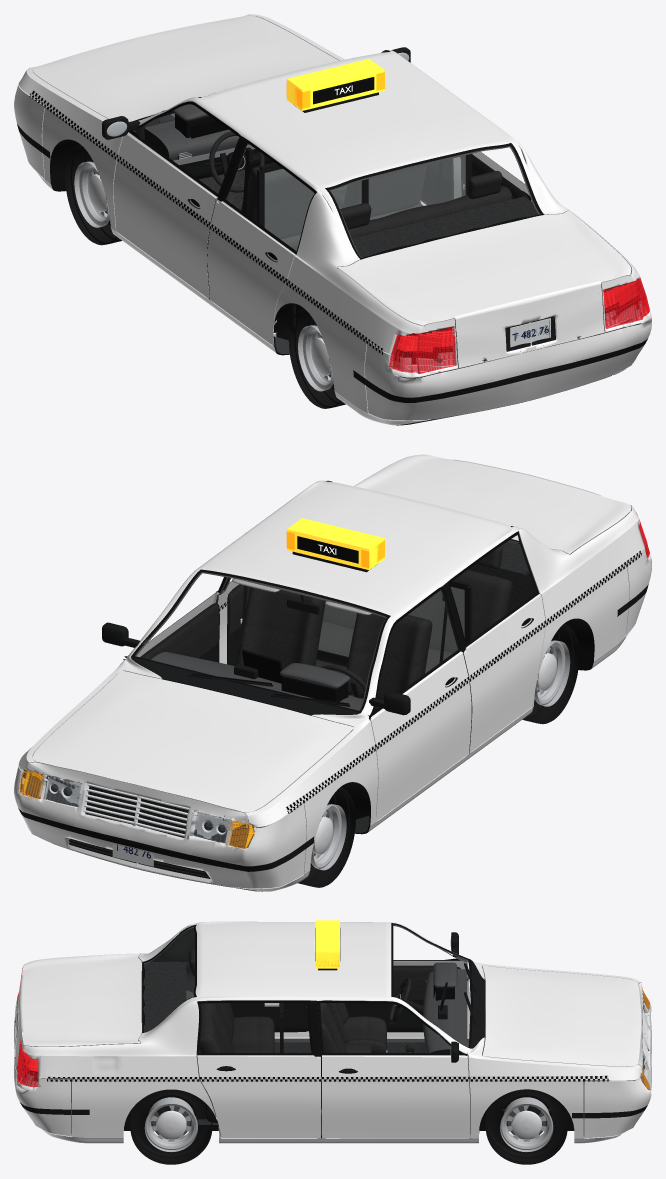
The model's file is taxi.gltf.
The picture shows the model from 3 angles, top to bottom: view 1: azimuth 30°, elevation 25°; view 2: azimuth 150°, elevation 25°; view 3: azimuth 270°, elevation 25°; orthographic projection. The views are drawn at different scales.
Parts seen in each view (by area): view 1: body, trunk, hood, bumper.r, door.fl, door.rl, trim.sign, wheel.fl, wheel.rl, bumper.f, door.fr, door.rr; view 2: body, hood, bumper.f, trunk, door.fl, door.rl, door.fr, trim.sign, wheel.fl, wheel.rl, door.rr, bumper.r; view 3: body, hood, door.fr, trunk, door.rr, wheel.fr, wheel.rr, bumper.f, door.fl, bumper.r, door.rl, trim.sign.
Boxes of the visible parts, bbox=[...] form: body: bbox=[18, 14, 650, 425]; trunk: bbox=[337, 210, 631, 368]; hood: bbox=[33, 15, 339, 121]; bumper.r: bbox=[365, 315, 651, 420]; door.fl: bbox=[102, 101, 240, 299]; door.rl: bbox=[207, 140, 316, 345]; trim.sign: bbox=[286, 59, 384, 112]; wheel.fl: bbox=[65, 144, 121, 245]; wheel.rl: bbox=[288, 308, 345, 408]; bumper.f: bbox=[14, 15, 246, 178]; door.fr: bbox=[391, 47, 461, 205]; door.rr: bbox=[460, 151, 531, 201]; body: bbox=[18, 454, 650, 891]; hood: bbox=[33, 670, 354, 812]; bumper.f: bbox=[14, 757, 306, 888]; trunk: bbox=[355, 454, 631, 554]; door.fl: bbox=[368, 586, 471, 821]; door.rl: bbox=[448, 531, 545, 752]; door.fr: bbox=[102, 577, 226, 662]; trim.sign: bbox=[286, 518, 384, 572]; wheel.fl: bbox=[297, 787, 355, 887]; wheel.rl: bbox=[522, 623, 579, 724]; door.rr: bbox=[217, 580, 250, 665]; bumper.r: bbox=[626, 548, 651, 635]; body: bbox=[16, 921, 650, 1143]; hood: bbox=[482, 965, 641, 1066]; door.fr: bbox=[318, 1000, 470, 1138]; trunk: bbox=[14, 953, 141, 1068]; door.rr: bbox=[197, 1000, 320, 1138]; wheel.fr: bbox=[485, 1089, 567, 1164]; wheel.rr: bbox=[130, 1089, 212, 1164]; bumper.f: bbox=[584, 982, 651, 1138]; door.fl: bbox=[345, 932, 470, 1038]; bumper.r: bbox=[14, 998, 70, 1136]; door.rl: bbox=[230, 1002, 309, 1037]; trim.sign: bbox=[314, 920, 340, 970].
Size of the model in its own units: 2.3 by 1.65 by 5.22.
50 materials, 11 textured.
